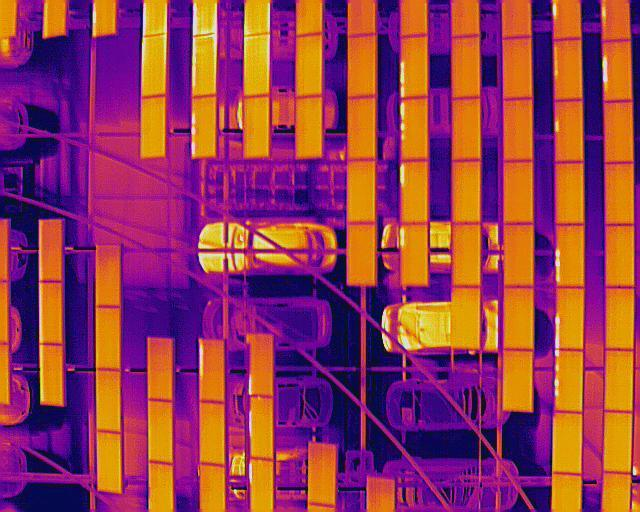Cell-Multi: (555, 350, 585, 413), (401, 160, 429, 225), (400, 97, 428, 160), (191, 92, 217, 157)
No-Anomaly: (347, 96, 377, 162), (295, 31, 324, 99), (502, 36, 533, 99), (605, 160, 635, 225), (348, 158, 377, 225), (605, 348, 635, 412), (554, 412, 584, 475), (504, 99, 534, 162), (504, 160, 534, 223), (605, 224, 635, 287), (504, 287, 534, 350), (503, 349, 533, 412), (452, 223, 481, 288), (296, 92, 323, 161), (505, 224, 535, 286), (452, 160, 481, 224), (606, 284, 634, 350), (605, 411, 634, 474), (604, 101, 633, 164), (348, 33, 376, 97), (243, 94, 270, 160), (452, 288, 481, 349), (555, 162, 583, 225), (453, 96, 480, 161), (309, 442, 336, 506), (453, 36, 480, 100), (554, 40, 582, 101), (199, 400, 226, 463), (96, 369, 122, 433), (349, 223, 375, 287), (148, 338, 174, 401), (149, 399, 174, 464), (140, 94, 165, 159), (98, 429, 123, 493), (39, 282, 64, 345), (40, 343, 65, 406), (97, 306, 121, 370), (96, 245, 121, 306), (39, 220, 63, 281)
Unclassified: (243, 31, 271, 98), (400, 223, 429, 286), (556, 287, 585, 350), (400, 35, 428, 100), (555, 98, 583, 163), (556, 222, 584, 287), (604, 40, 632, 103), (199, 338, 226, 402), (191, 31, 216, 99), (248, 334, 274, 397), (249, 398, 275, 460), (143, 33, 168, 96), (250, 460, 275, 511)
